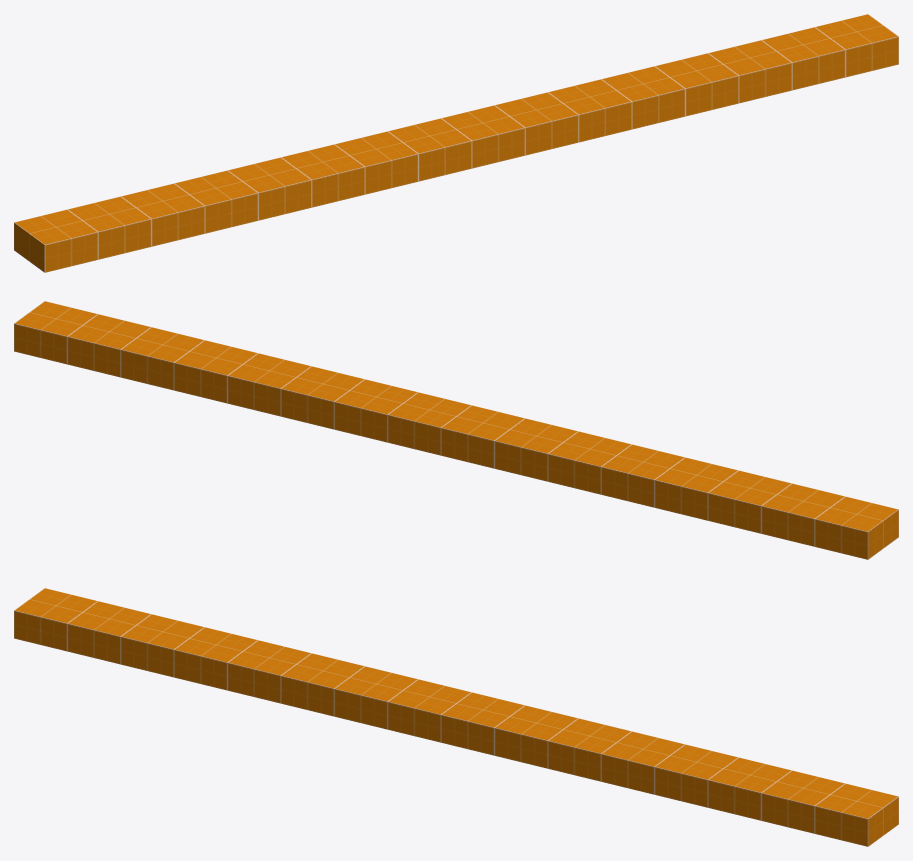
Rendered from Plate2_16x1.obj.
The picture shows the model from 3 angles, top to bottom: view 1: azimuth 30°, elevation 25°; view 2: azimuth 150°, elevation 25°; view 3: azimuth 330°, elevation 25°; orthographic projection.
Parts seen in each view (by area): view 1: Plate2_16x1_Cube.314; view 2: Plate2_16x1_Cube.314; view 3: Plate2_16x1_Cube.314.
Part boxes in pixels (<box>): Plate2_16x1_Cube.314: <box>14,14,898,272</box>; Plate2_16x1_Cube.314: <box>14,301,898,559</box>; Plate2_16x1_Cube.314: <box>14,588,898,846</box>.
Size of the model in its own units: 16 by 0.5 by 1.
1 material, 1 textured.
